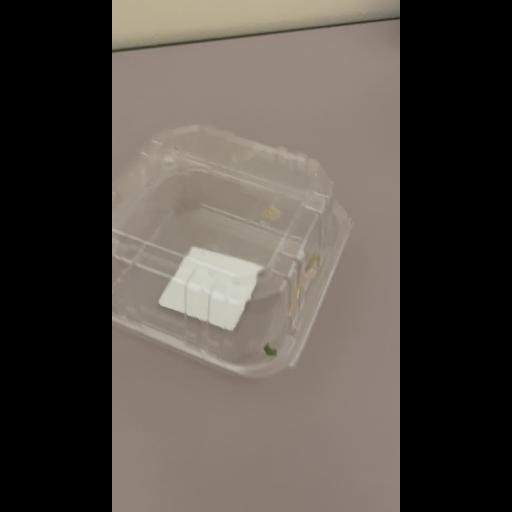small_plastic_container: (112, 126, 352, 376)
